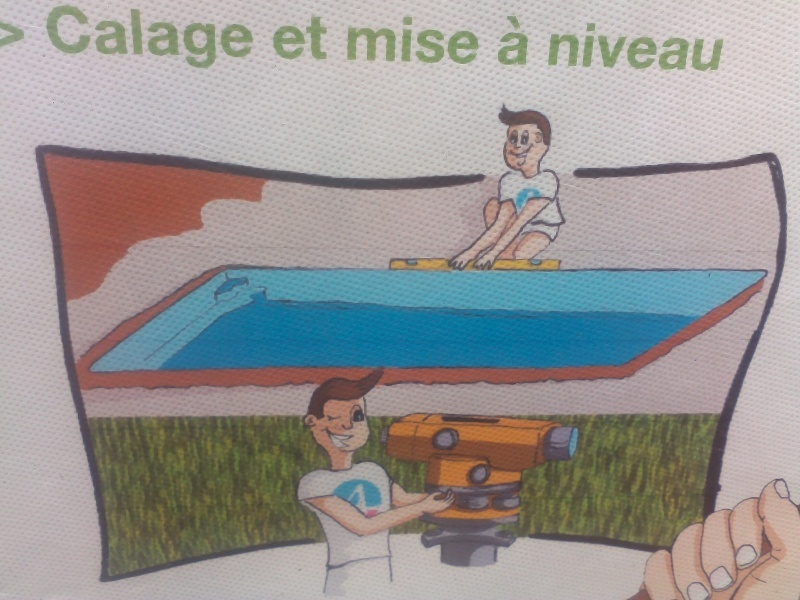text: (49, 3, 64, 69), (65, 3, 80, 69), (81, 3, 96, 69), (97, 3, 112, 69), (113, 3, 128, 69), (129, 3, 144, 69), (145, 3, 160, 69), (161, 3, 176, 69), (177, 3, 192, 69), (193, 3, 208, 69), (209, 3, 224, 69), (225, 3, 240, 69), (241, 3, 254, 69), (465, 15, 481, 65), (561, 20, 576, 73), (577, 20, 592, 73), (593, 20, 608, 73), (609, 20, 624, 73), (625, 20, 640, 73), (641, 20, 656, 73), (657, 20, 672, 73), (673, 20, 688, 73), (689, 20, 704, 73), (705, 20, 720, 73), (497, 15, 512, 67), (513, 15, 528, 67), (353, 15, 368, 65), (369, 15, 384, 65), (385, 15, 400, 65), (401, 15, 416, 65), (417, 15, 432, 65), (433, 15, 448, 65), (449, 15, 464, 65), (273, 15, 288, 61), (289, 15, 304, 61), (305, 15, 320, 61), (552, 20, 560, 73), (321, 15, 327, 61), (721, 20, 726, 73), (347, 15, 352, 65), (47, 3, 48, 69)
